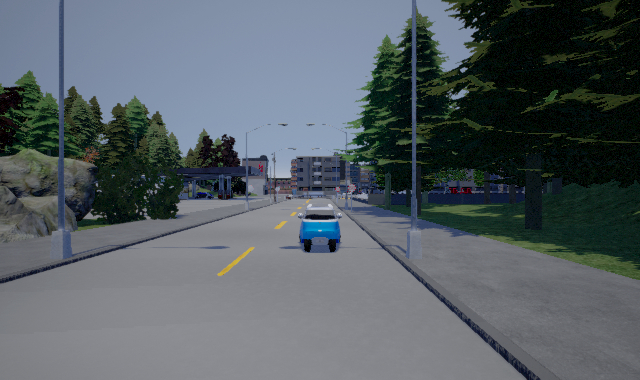traffic_sign: (348, 184, 356, 192), (334, 186, 341, 192)
vehicle: (298, 204, 343, 252)
